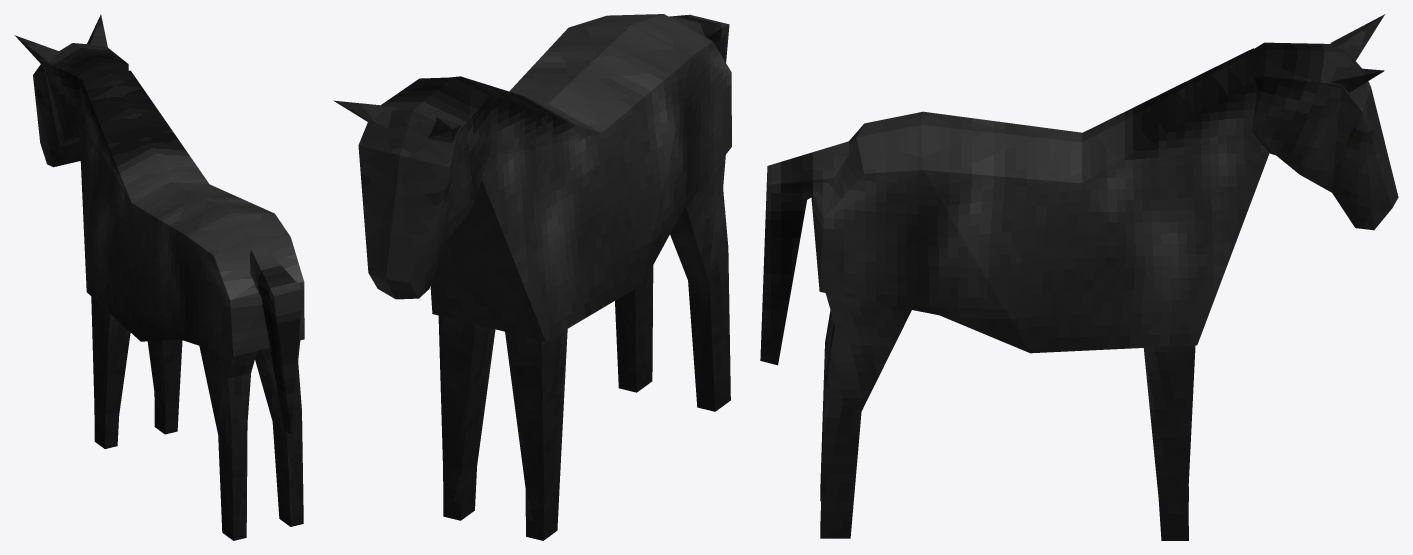
The model's file is Horse_Horse_Black.glb.
3 views of the same model, side by side, from view 1: azimuth 30°, elevation 25°; view 2: azimuth 150°, elevation 25°; view 3: azimuth 270°, elevation 25° (orthographic). The views are drawn at different scales.
Parts seen in each view (by area): view 1: Body, Head, Leg3, Leg4, Leg1, Leg2; view 2: Body, Head, Leg3, Leg1, Leg2, Leg4; view 3: Body, Head, Leg4, Leg2.
Part boxes in pixels (x1=…): Body: x1=79, y1=69, x2=304, y2=432; Head: x1=14, y1=14, x2=128, y2=167; Leg3: x1=199, y1=346, x2=257, y2=540; Leg4: x1=255, y1=340, x2=303, y2=526; Leg1: x1=91, y1=297, x2=130, y2=448; Leg2: x1=147, y1=339, x2=182, y2=434; Body: x1=430, y1=14, x2=731, y2=341; Head: x1=333, y1=77, x2=491, y2=299; Leg3: x1=670, y1=155, x2=730, y2=411; Leg1: x1=505, y1=329, x2=567, y2=540; Leg2: x1=438, y1=315, x2=495, y2=520; Leg4: x1=615, y1=265, x2=653, y2=392; Body: x1=760, y1=48, x2=1269, y2=365; Head: x1=1252, y1=14, x2=1398, y2=230; Leg4: x1=820, y1=293, x2=911, y2=538; Leg2: x1=1143, y1=345, x2=1195, y2=540.
Bounding box in the file's own units: 0.4986 × 1.71 × 2.08.
Materials: 1 (1 with a texture image).
